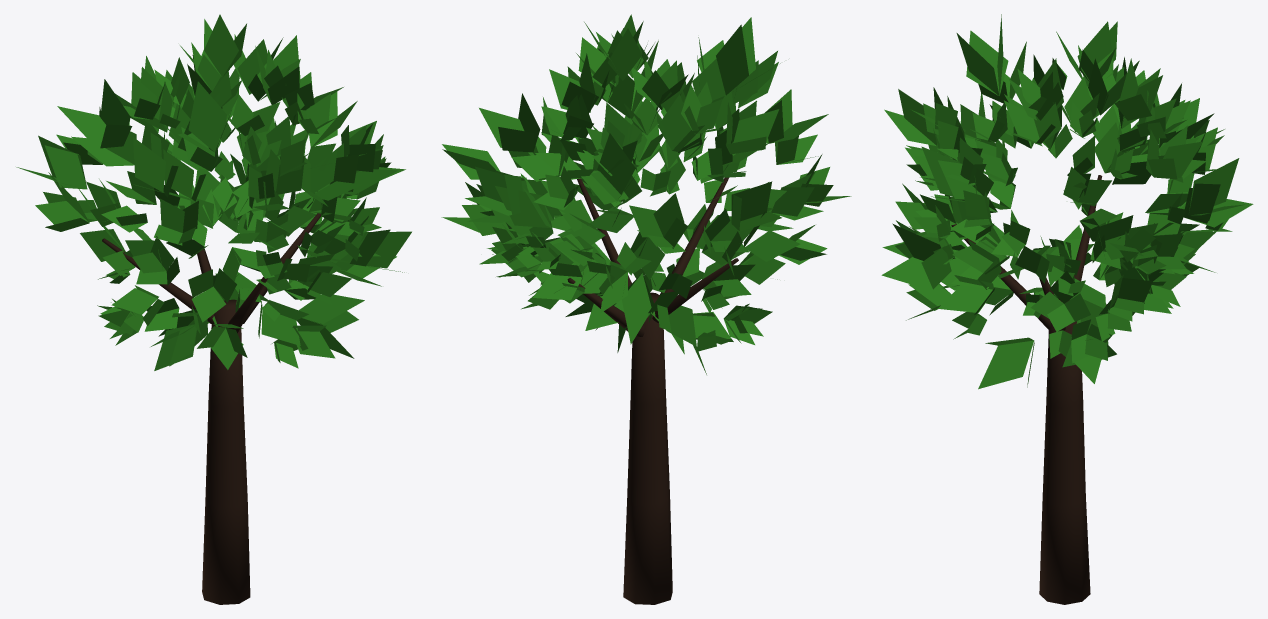
Rendered from Tree_10_A_LOD1.obj.
The picture shows the model from 3 angles, left to right: view 1: azimuth 30°, elevation 25°; view 2: azimuth 150°, elevation 25°; view 3: azimuth 270°, elevation 25°; orthographic projection.
Visible parts, largest first — view 1: Leaves, Trunk; view 2: Leaves, Trunk; view 3: Leaves, Trunk.
Part boxes in pixels (x1,y1,x2,y2): Leaves: (16,14,411,370); Trunk: (102,213,320,604); Leaves: (441,14,851,374); Trunk: (567,177,738,604); Leaves: (881,14,1253,389); Trunk: (951,175,1116,604).
Size of the model in its own units: 6.96 by 10.82 by 6.63.
